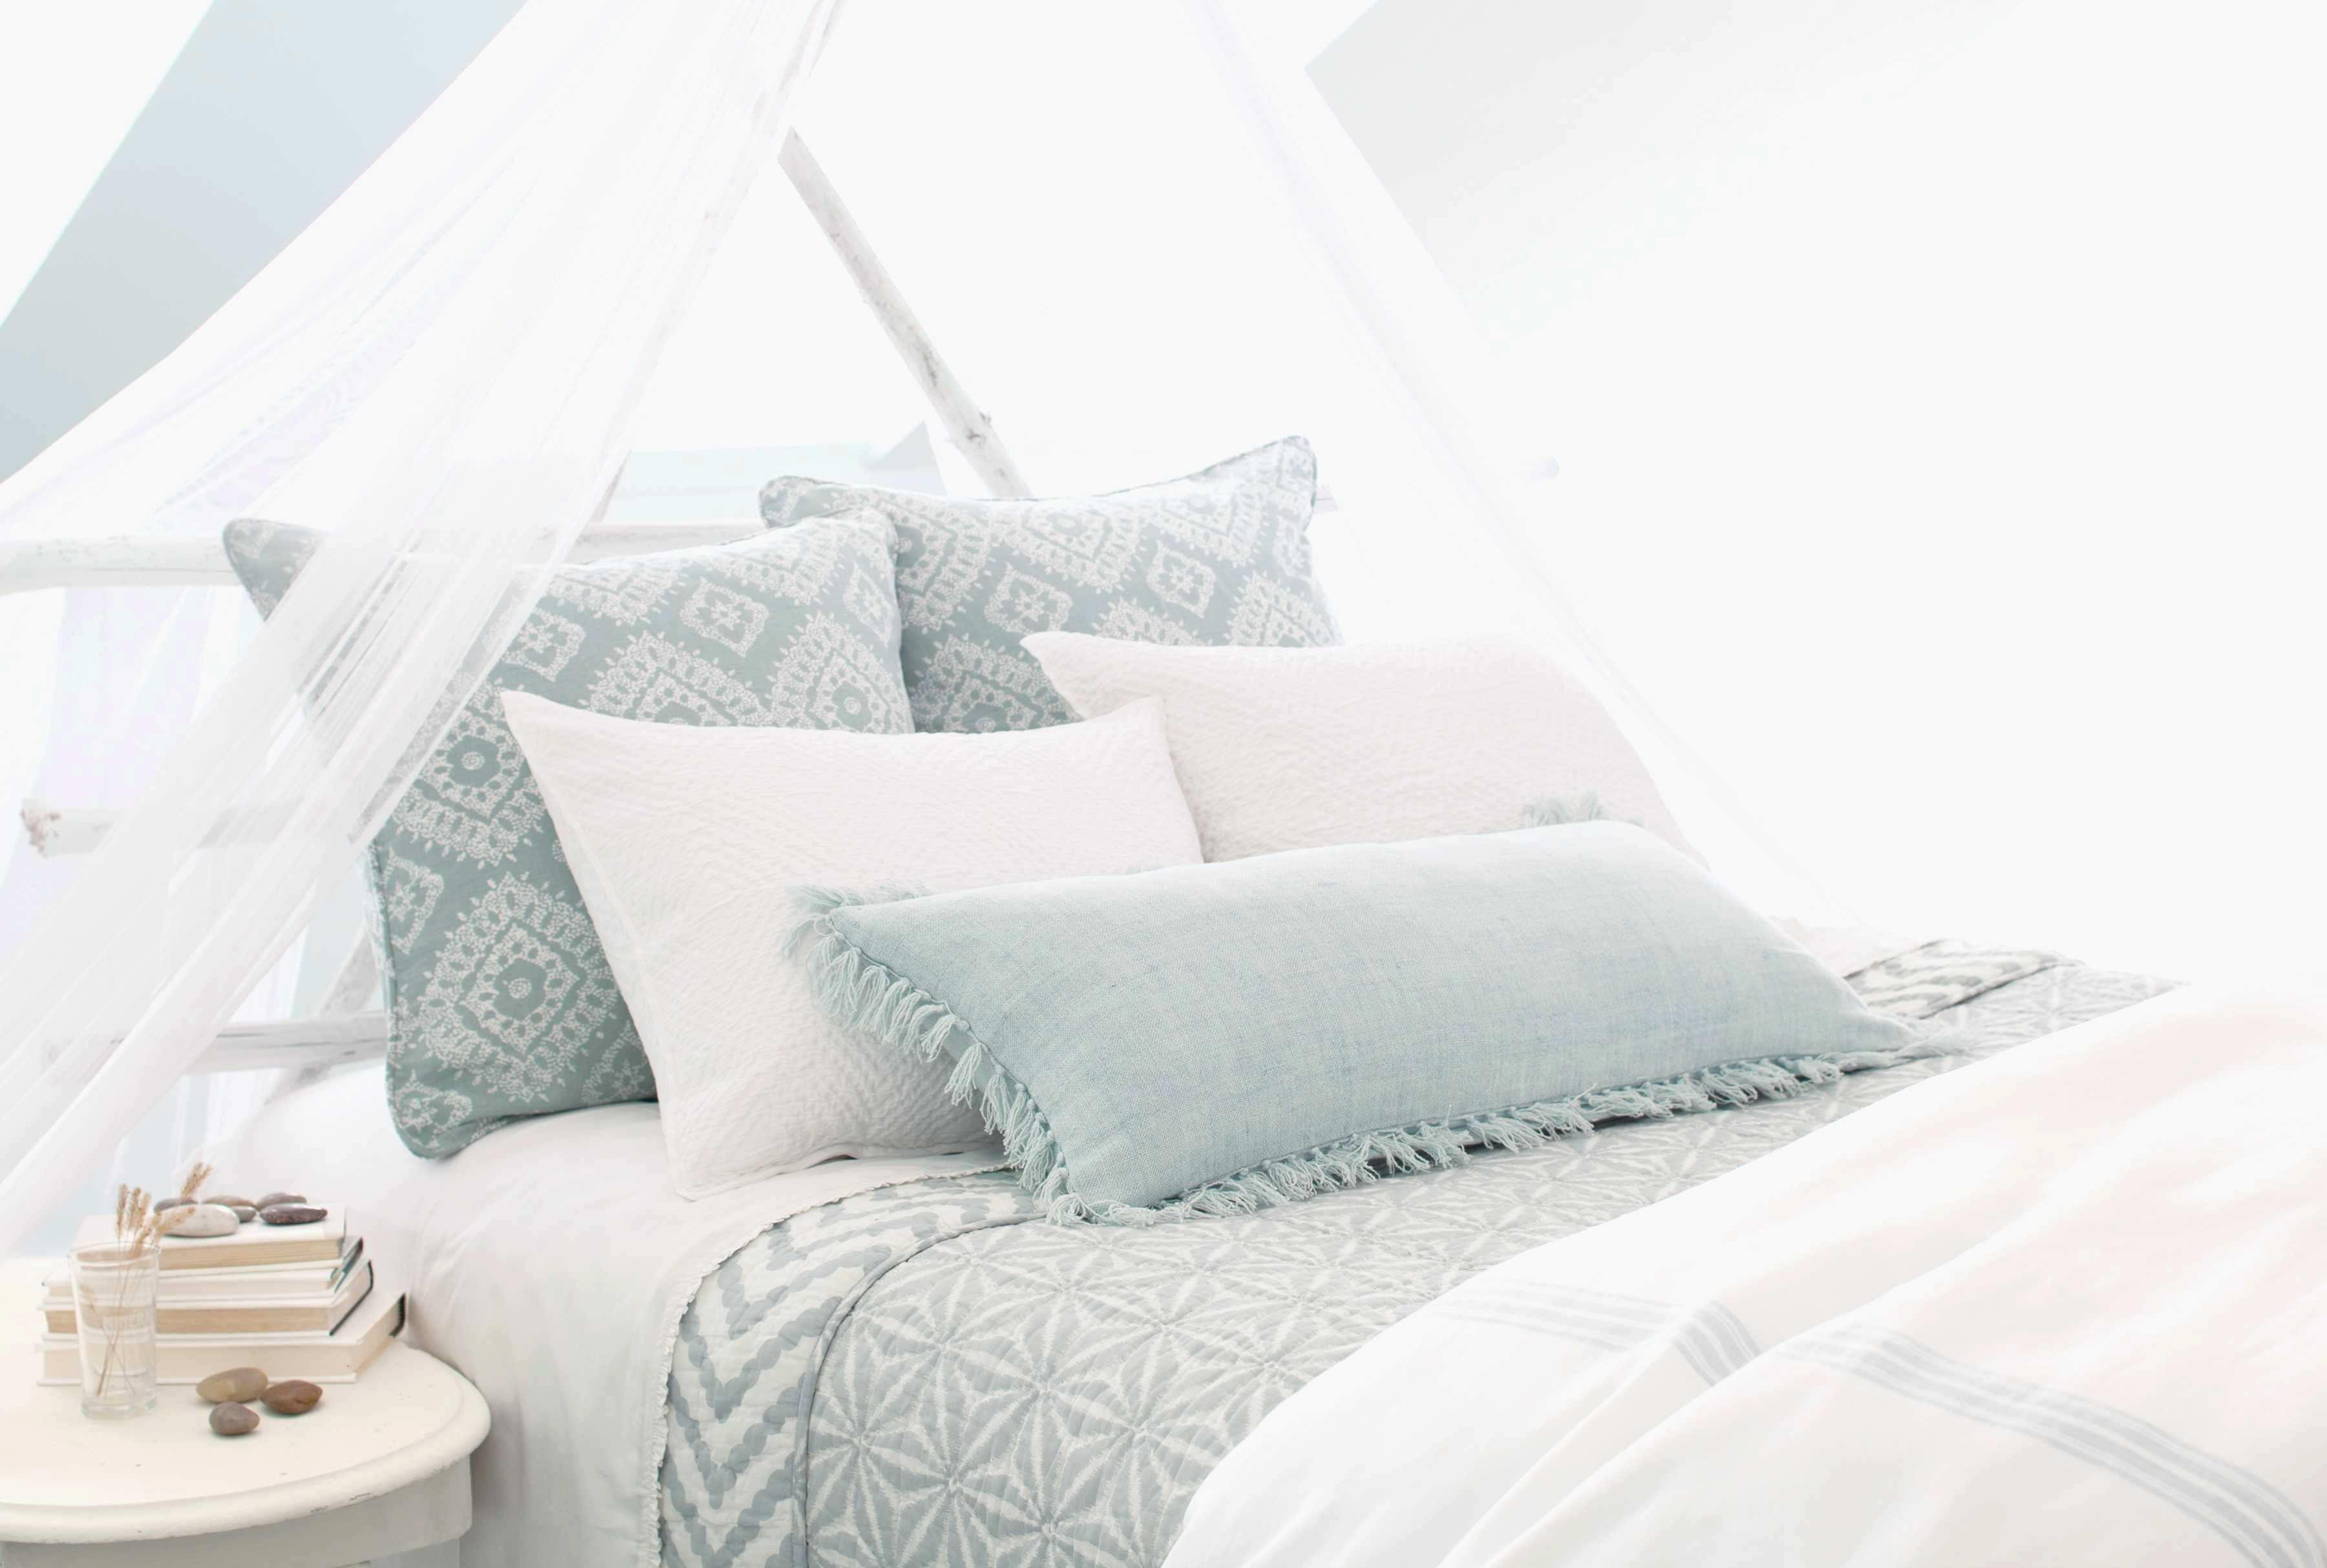bed: (549, 565, 2304, 1489)
